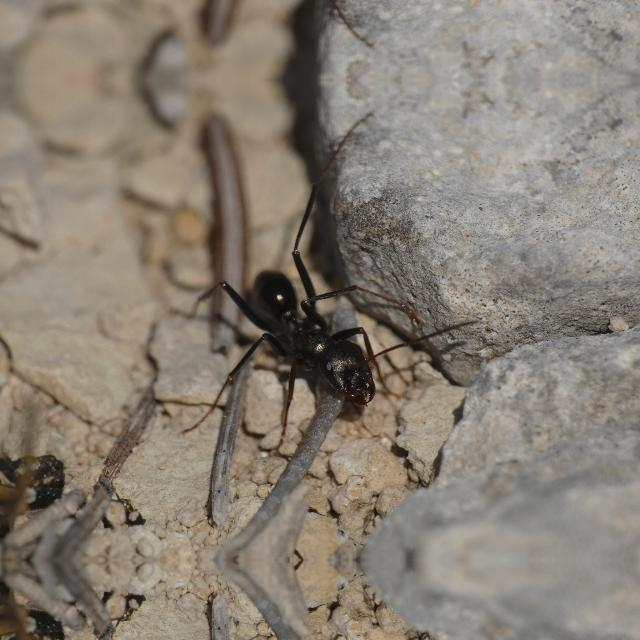Cataglyphis: (210, 245, 416, 418)
